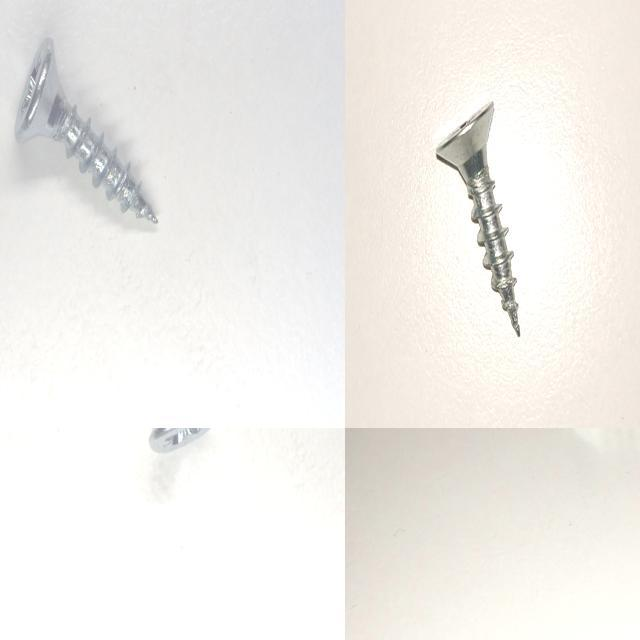Screw: (15, 36, 158, 223), (436, 101, 521, 336)
